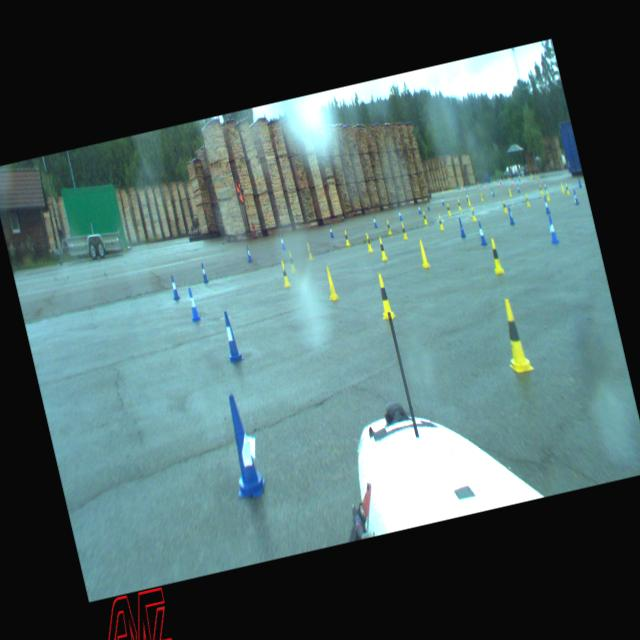blue_cone: (216, 391, 268, 502), (218, 309, 243, 362), (184, 286, 200, 322), (546, 215, 560, 244), (169, 274, 180, 300), (476, 220, 486, 246), (199, 262, 208, 282), (457, 218, 466, 238), (506, 205, 515, 225), (542, 195, 550, 213), (244, 245, 252, 262), (572, 189, 578, 204), (328, 224, 333, 238), (372, 215, 377, 228), (280, 234, 284, 249), (397, 208, 402, 220), (417, 203, 421, 214), (426, 200, 430, 210), (441, 196, 444, 205), (491, 188, 494, 196)
yellow_cone: (494, 296, 534, 374), (372, 272, 396, 320), (487, 237, 504, 274), (322, 264, 338, 300), (416, 238, 430, 268), (278, 260, 290, 286), (377, 236, 388, 260), (287, 250, 296, 272), (364, 232, 372, 252), (305, 240, 313, 260), (400, 222, 408, 240), (436, 213, 444, 229), (343, 229, 350, 245), (469, 206, 476, 220), (386, 219, 392, 234), (501, 199, 507, 212), (524, 194, 530, 206), (422, 210, 427, 223), (456, 198, 461, 210), (446, 203, 451, 215), (466, 195, 471, 205), (564, 182, 568, 194), (560, 182, 564, 192), (479, 192, 484, 200), (508, 187, 511, 196)
